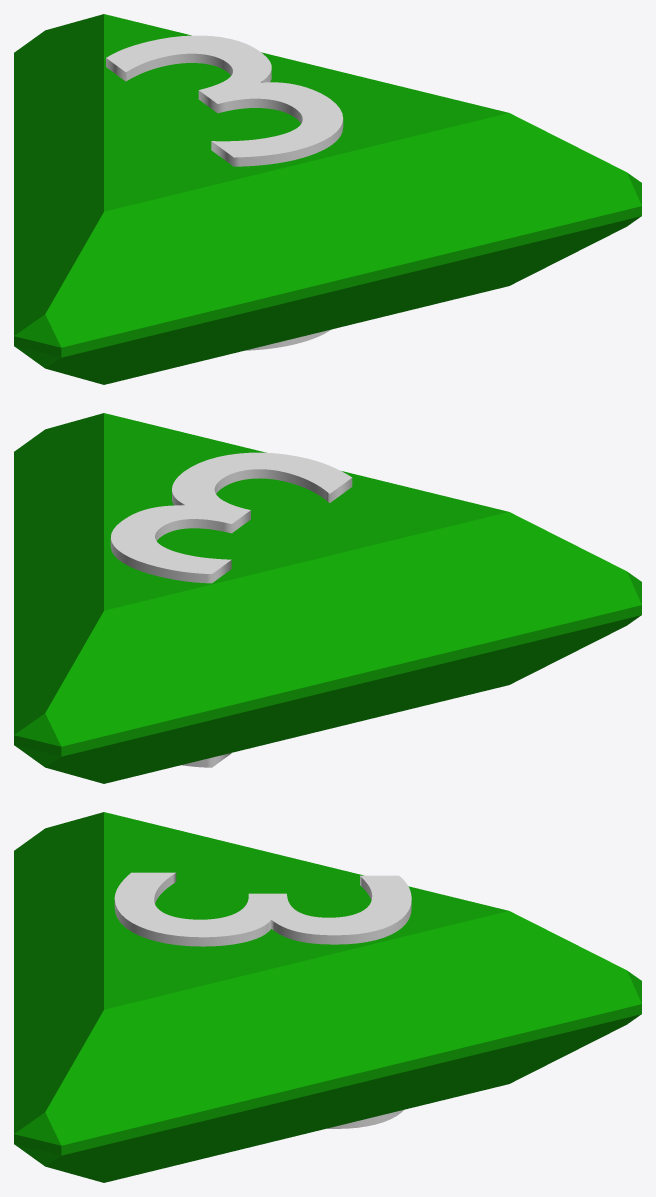
File: 3宝石色.fbx
The picture shows the model from 3 angles, top to bottom: view 1: azimuth 30°, elevation 25°; view 2: azimuth 150°, elevation 25°; view 3: azimuth 270°, elevation 25°; orthographic projection.
Visible parts, largest first — view 1: Circle, 3; view 2: Circle, 3; view 3: Circle, 3.
Part boxes in pixels (x1=…): Circle: x1=14, y1=14, x2=641, y2=384; 3: x1=106, y1=35, x2=343, y2=350; Circle: x1=14, y1=413, x2=641, y2=783; 3: x1=110, y1=452, x2=352, y2=767; Circle: x1=14, y1=812, x2=641, y2=1182; 3: x1=114, y1=872, x2=411, y2=1128.
Bounding box in the file's own units: 161 × 47.46 × 139.
